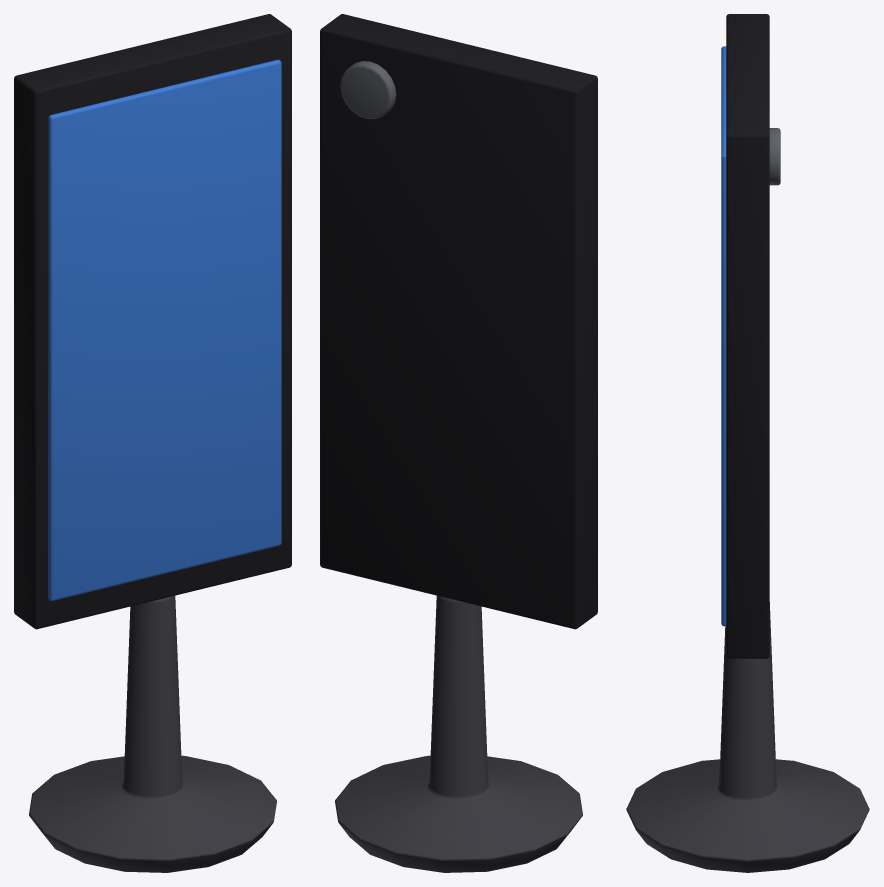
File: phone.glb
3 views of the same model, side by side, from view 1: azimuth 30°, elevation 25°; view 2: azimuth 150°, elevation 25°; view 3: azimuth 270°, elevation 25° (orthographic). The views are drawn at different scales.
Visible parts, largest first — view 1: phone; view 2: phone; view 3: phone.
Part boxes in pixels (bbox=[...]): phone: bbox=[14, 14, 291, 872]; phone: bbox=[320, 14, 597, 872]; phone: bbox=[626, 14, 869, 872].
Size of the model in its own units: 0.4 by 1.15 by 0.3367.
